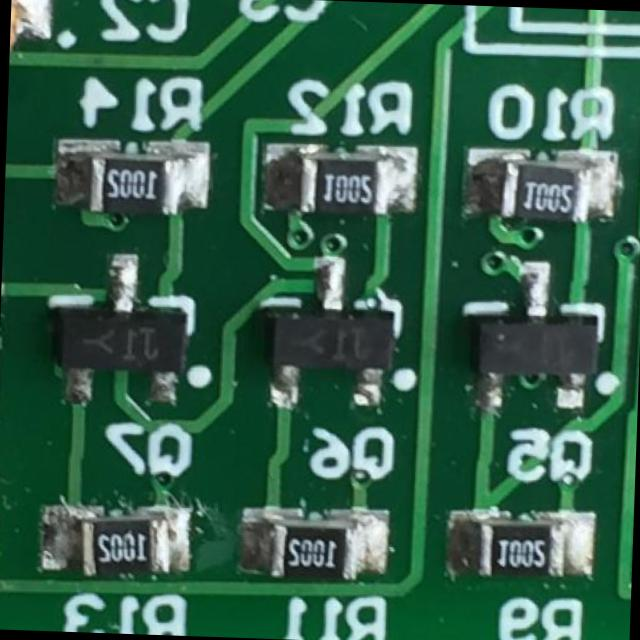resistor: (225, 416, 358, 497), (444, 424, 557, 496), (42, 413, 144, 488), (56, 54, 161, 126), (471, 66, 580, 135), (274, 62, 384, 130)
transistor: (454, 235, 588, 368), (238, 248, 384, 358), (38, 238, 170, 358)
